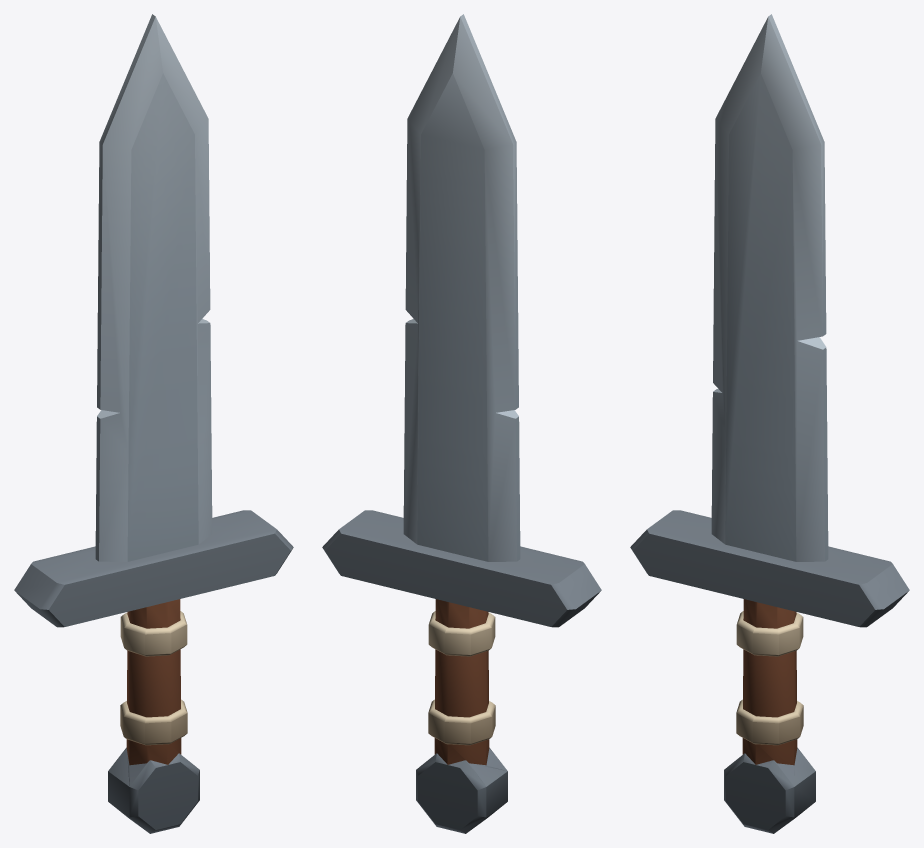
File: sword_knight.glb
3 views of the same model, side by side, from view 1: azimuth 30°, elevation 25°; view 2: azimuth 150°, elevation 25°; view 3: azimuth 330°, elevation 25° (orthographic).
Parts seen in each view (by area): view 1: Item; view 2: Item; view 3: Item.
Part boxes in pixels (x1,y1,x2,y2): Item: (14,14,293,833); Item: (322,14,601,833); Item: (630,14,909,833).
Size of the model in its own units: 0.6 by 1.82 by 0.1429.
2 materials, 2 textured.
